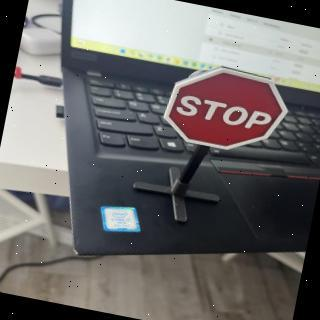sign_stop: (159, 58, 296, 162)
